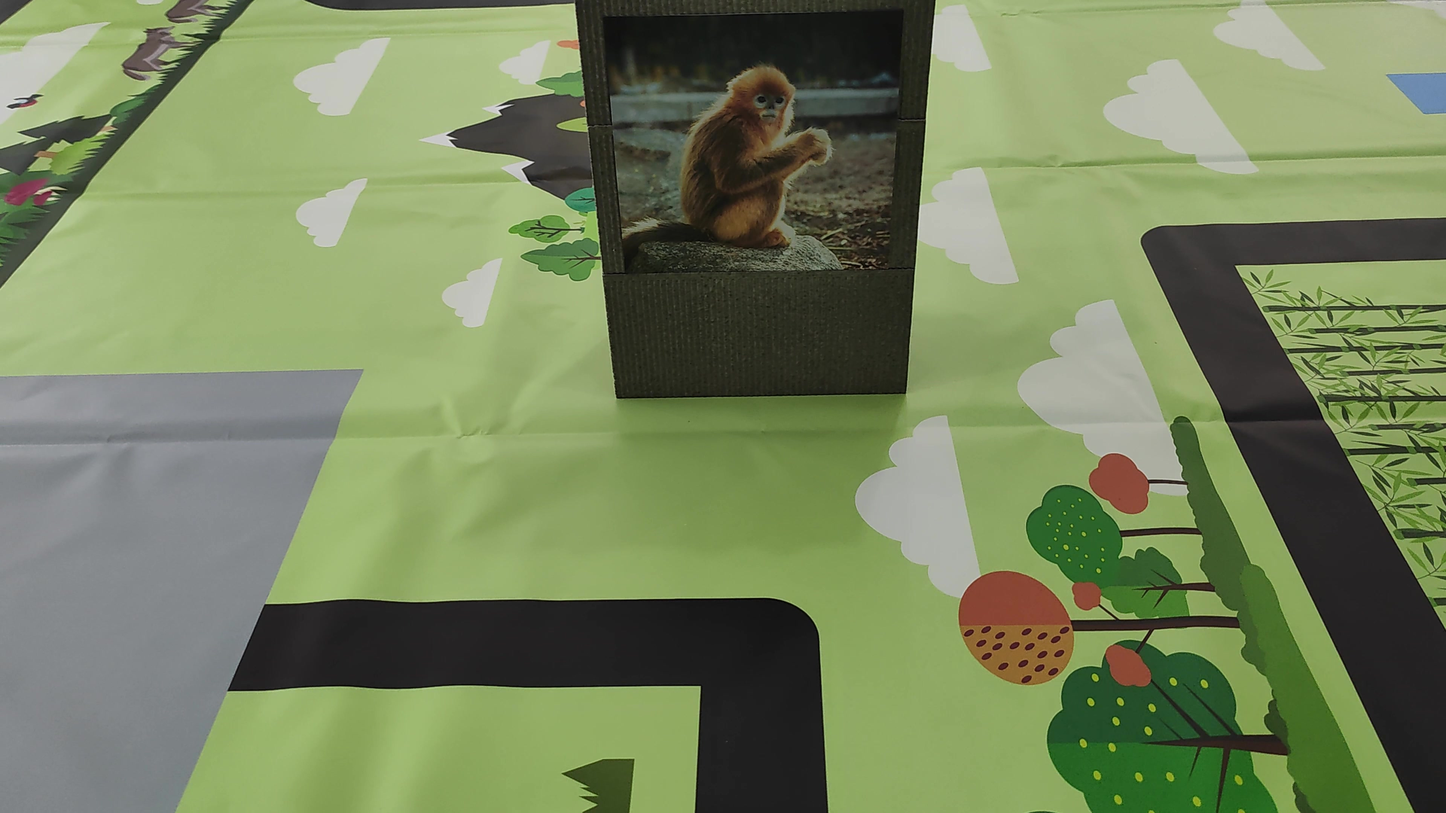monkey: (630, 14, 898, 268)
